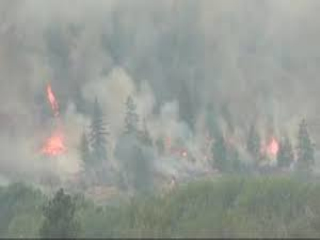fire: (41, 79, 68, 157), (265, 137, 282, 157)
smoke: (68, 12, 269, 180)
